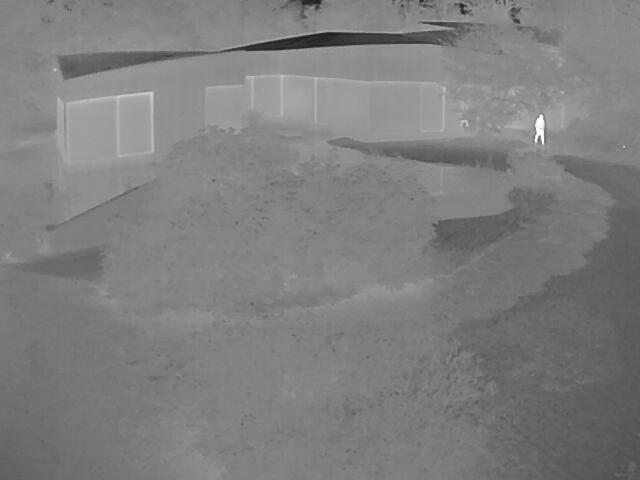person: (533, 113, 545, 144)
